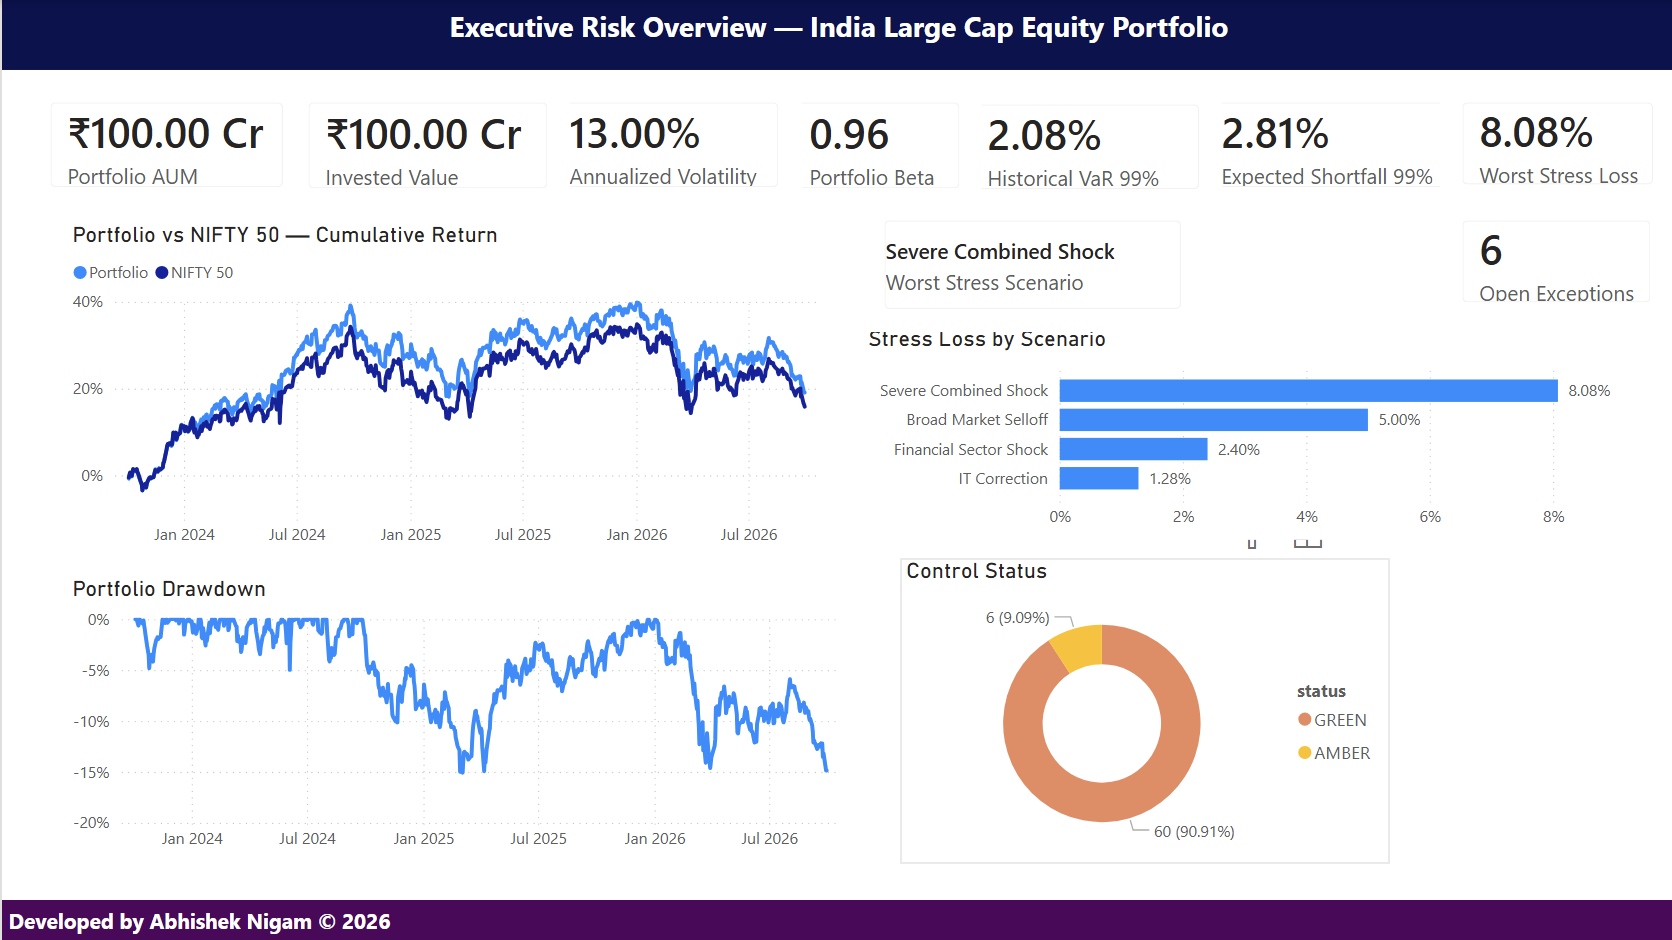

The page's visual inventory and layout, read from the dashboard file:
{"tool":"powerbi","page":{"name":"Executive Risk Overview","canvas":[1280,720],"ordinal":0},"visuals":[{"type":"lineChart","title":"Portfolio vs NIFTY 50 — Cumulative Return","fields":{"Y":["risk_platform vw_portfolio_benchmark_timeseries.Portfolio Cumulative Return Display","risk_platform vw_portfolio_benchmark_timeseries.NIFTY 50 Cumulative Return Display"],"Category":["risk_platform vw_portfolio_benchmark_timeseries.return_date"]},"box":[48.9,169.7,591.8,256.9],"z":0},{"type":"lineChart","title":"Portfolio Drawdown","fields":{"Category":["risk_platform vw_portfolio_benchmark_timeseries.return_date"],"Y":["risk_platform vw_portfolio_benchmark_timeseries.Portfolio Drawdown Display"]},"box":[48.9,440.4,608.6,218.7],"z":1000},{"type":"donutChart","title":"Control Status","fields":{"Category":["risk_platform vw_controls_exceptions.status"],"Y":["CountNonNull(risk_platform vw_controls_exceptions.control_result_id)"]},"box":[686.6,426.7,374.7,234],"z":2000},{"type":"cardVisual","fields":{"Data":["risk_platform vw_portfolio_benchmark_timeseries.Open Exceptions"]},"box":[1099.5,151.4,178.9,97.9],"z":3000},{"type":"clusteredBarChart","title":"Stress Loss by Scenario","fields":{"Category":["risk_platform vw_stress_scenarios.scenario_name"],"Y":["risk_platform vw_stress_scenarios.Stress Loss Display"]},"box":[657.6,249.3,590.3,163.6],"z":4000},{"type":"cardVisual","fields":{"Data":["risk_platform vw_stress_scenarios.Worst Stress Scenario"]},"box":[657.6,151.4,261.5,102.5],"z":5000},{"type":"cardVisual","fields":{"Data":["risk_platform vw_executive_risk_overview.Expected Shortfall 99% Display"]},"box":[902.3,61.2,224.8,99.4],"z":6000},{"type":"cardVisual","fields":{"Data":["risk_platform vw_executive_risk_overview.Historical VaR 99% Display"]},"box":[723.3,62.7,209.5,99.4],"z":7000},{"type":"cardVisual","fields":{"Data":["risk_platform vw_executive_risk_overview.Portfolio Beta"]},"box":[587.2,61.2,162.1,100.9],"z":8000},{"type":"cardVisual","fields":{"Data":["risk_platform vw_executive_risk_overview.Annualized Volatility Display"]},"box":[403.7,61.2,208,99.4],"z":9000},{"type":"cardVisual","fields":{"Data":["risk_platform vw_executive_risk_overview.Invested Value Cr"]},"box":[217.2,61.2,217.2,100.9],"z":10000},{"type":"cardVisual","fields":{"Data":["risk_platform vw_executive_risk_overview.Portfolio AUM Display"]},"box":[19.9,61.2,212.6,99.4],"z":11000},{"type":"cardVisual","fields":{"Data":["risk_platform vw_executive_risk_overview.Worst Stress Loss Display KPI"]},"box":[1099.5,61.2,180.5,97.9],"z":12000},{"type":"textbox","box":[0,0,1280,53.6],"z":13000},{"type":"textbox","box":[0,688.2,1278.5,33.6],"z":13001}]}

Visuals, with their boxes in screenshot pixels (x1, y1, x2, y2), scaled from the page's 1280x720 canvas onto the 1672x940 screenshot:
"Portfolio vs NIFTY 50 — Cumulative Return" lineChart: (64,222,837,557)
"Portfolio Drawdown" lineChart: (64,575,859,860)
"Control Status" donutChart: (897,557,1386,863)
cardVisual - risk_platform vw_portfolio_benchmark_timeseries.Open Exceptions: (1436,198,1670,325)
"Stress Loss by Scenario" clusteredBarChart: (859,325,1630,539)
cardVisual - risk_platform vw_stress_scenarios.Worst Stress Scenario: (859,198,1201,331)
cardVisual - risk_platform vw_executive_risk_overview.Expected Shortfall 99% Display: (1179,80,1472,210)
cardVisual - risk_platform vw_executive_risk_overview.Historical VaR 99% Display: (945,82,1218,212)
cardVisual - risk_platform vw_executive_risk_overview.Portfolio Beta: (767,80,979,212)
cardVisual - risk_platform vw_executive_risk_overview.Annualized Volatility Display: (527,80,799,210)
cardVisual - risk_platform vw_executive_risk_overview.Invested Value Cr: (284,80,567,212)
cardVisual - risk_platform vw_executive_risk_overview.Portfolio AUM Display: (26,80,304,210)
cardVisual - risk_platform vw_executive_risk_overview.Worst Stress Loss Display KPI: (1436,80,1671,208)
textbox: (0,0,1671,70)
textbox: (0,898,1670,939)
